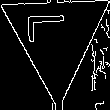L_E: (33, 21, 79, 55)
